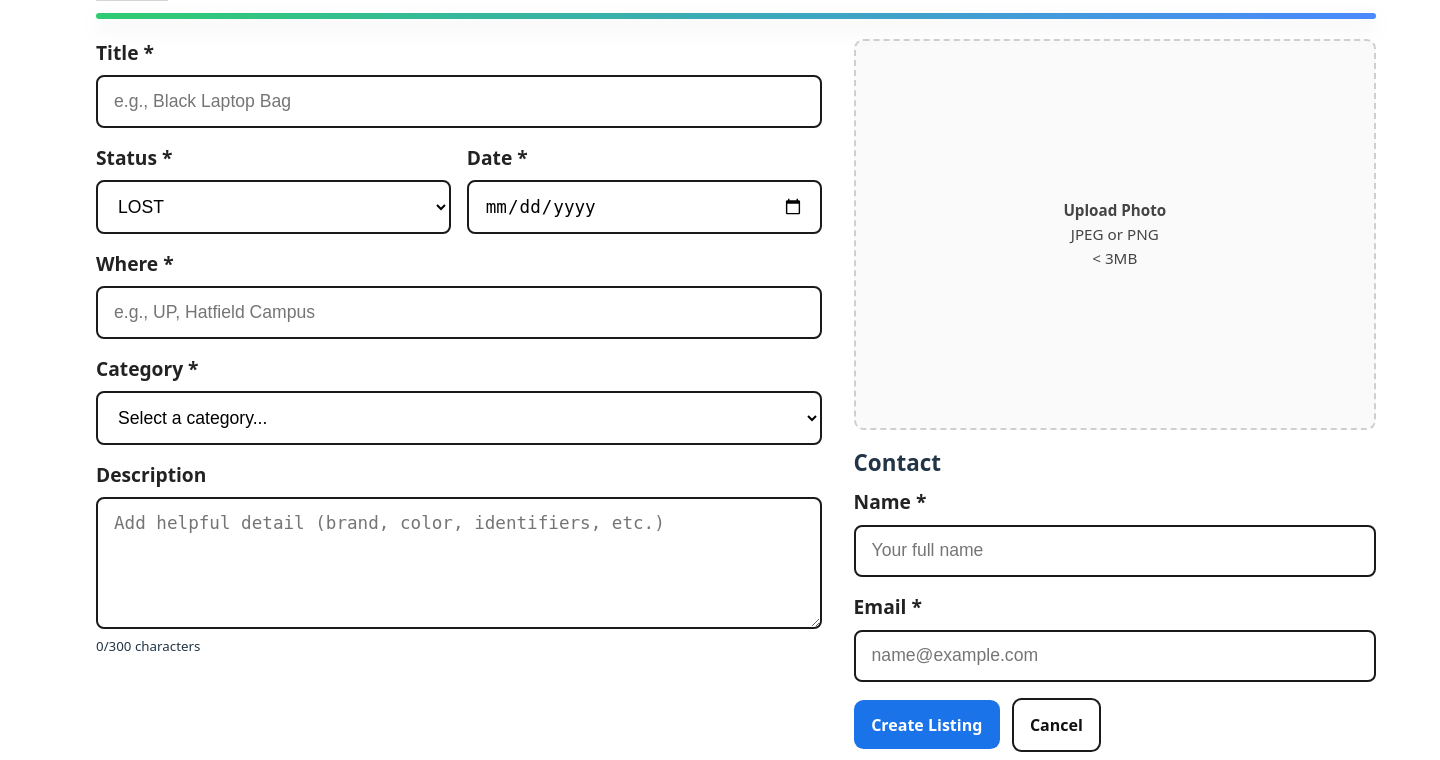
Scenario: CreateListing validation › shows errors when required fields missing
(page scrolled)
# trigger validation
Click the button "Create Listing". click: coordinates (927, 725)
box: [854, 700, 1000, 749]
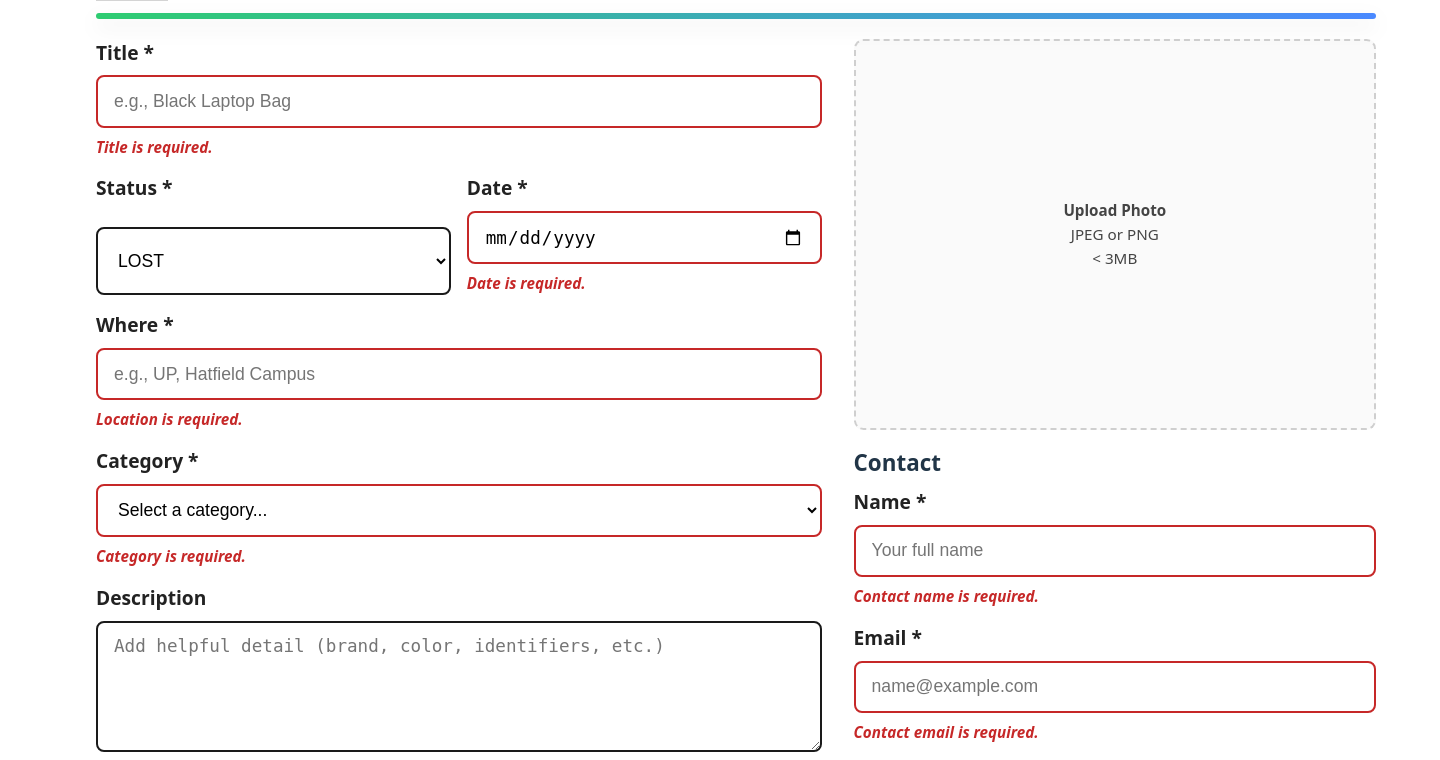
Check: the text "Title is required." is shown, box [96, 137, 212, 157]
Check: the text "Location is required." is shown, box [96, 409, 243, 429]
Check: the text "Date is required." is shown, box [467, 273, 586, 293]
